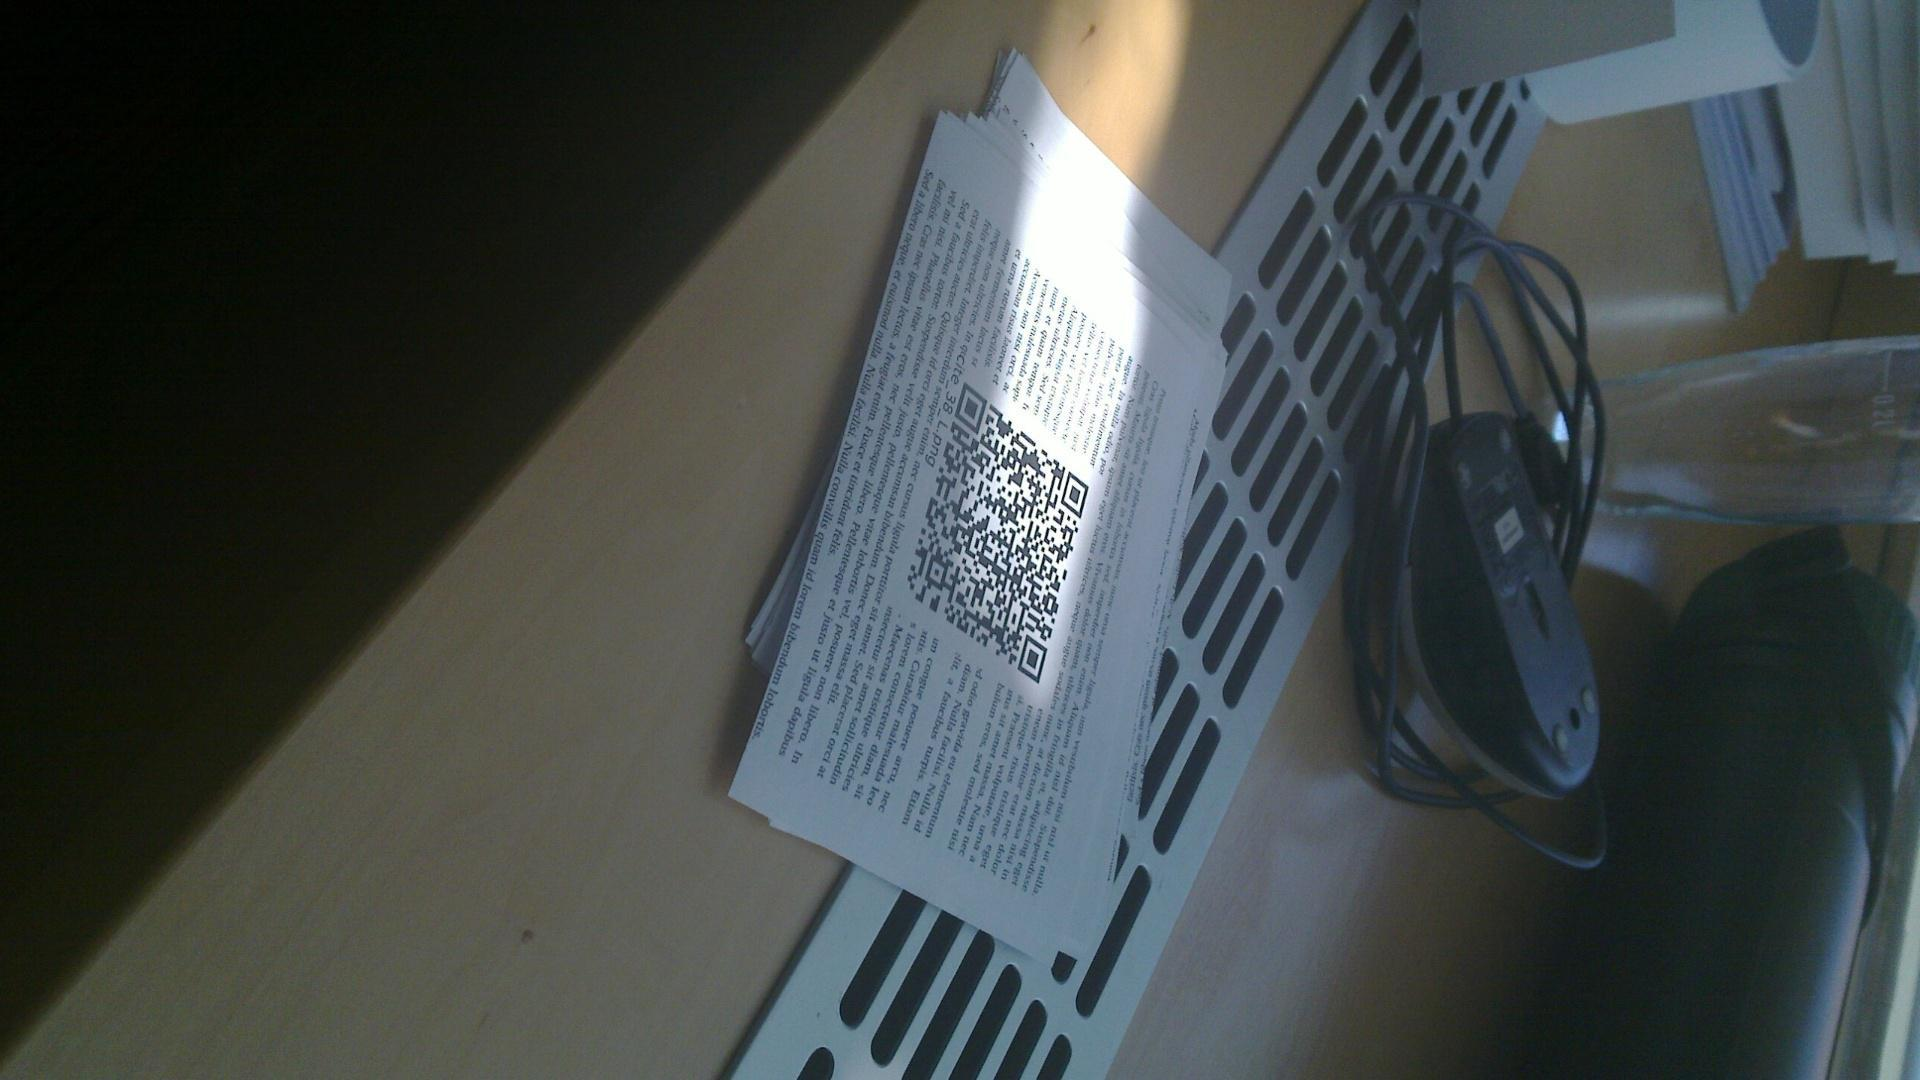Finder pattern: (952, 382, 993, 433), (1011, 630, 1047, 686), (1058, 469, 1093, 521)
